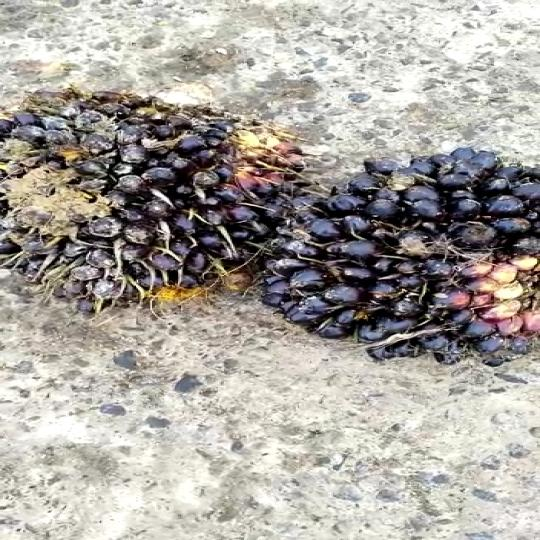mentah: (0, 78, 328, 347), (287, 143, 540, 399)
